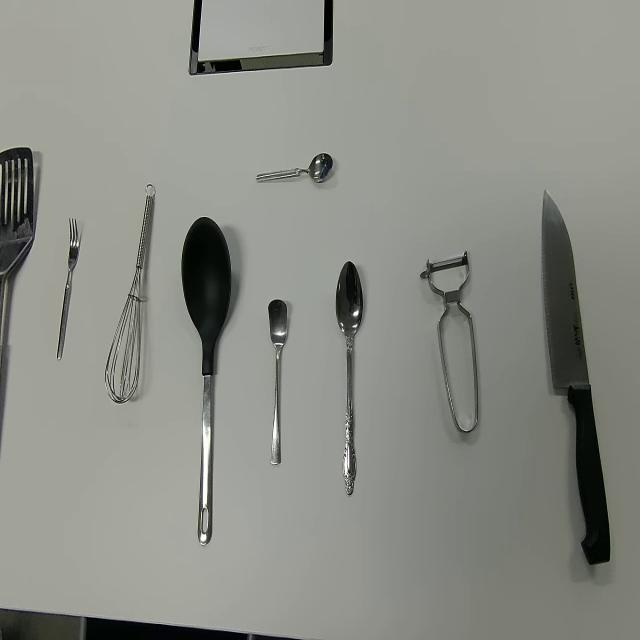Desert-Spoon: (335, 260, 363, 498)
Dinner-Fork: (56, 216, 81, 362)
Kitchen-Knife: (541, 188, 612, 566)
Peeler: (420, 248, 480, 434)
Serving-Spoon: (180, 215, 232, 547), (1, 145, 34, 397)
Tea-Spoon: (267, 297, 288, 466), (255, 151, 334, 186)
Whisk: (104, 183, 156, 405)
